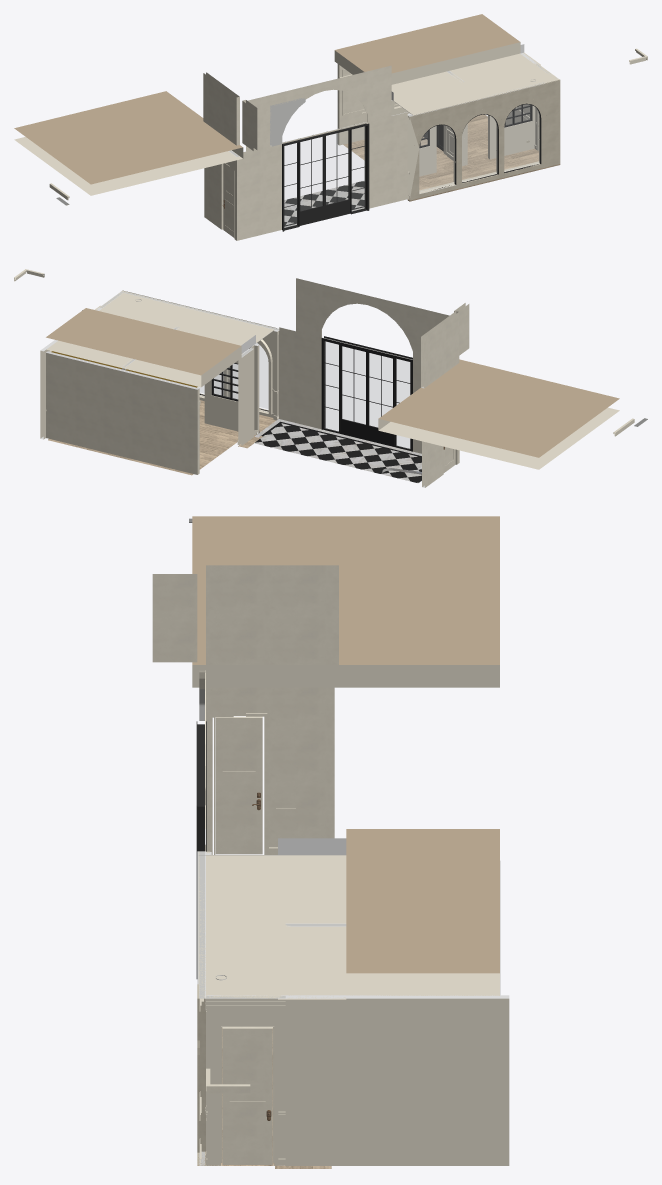
File: office-hall-90295a7a1003.glb
The picture shows the model from 3 angles, top to bottom: view 1: azimuth 30°, elevation 25°; view 2: azimuth 150°, elevation 25°; view 3: azimuth 270°, elevation 25°; orthographic projection. The views are drawn at different scales.
Parts seen in each view (by area): view 1: office-hall-look-2575515a05775d9e, office-hall-look-698abdfdc6fb970d, office-hall-look-d5a4a1b5d3594c04, office-hall-c9e78b9ec1bb39cd, office-hall-look-34525a54e63b733b, office-hall-dbd60ee5c3733ed6, office-hall-38561c12898e4d43, office-hall-c02a36d0521470a9, office-hall-5cbcc744e6f960f3, office-hall-look-746250f96522f643, office-hall-look-dbd60ee5c3733ed6, office-hall-c374268555806af8 (+11 smaller); view 2: office-hall-look-2575515a05775d9e, office-hall-look-19647d6da46c2b80, office-hall-look-698abdfdc6fb970d, office-hall-look-d5a4a1b5d3594c04, office-hall-look-c4ac463b6a960119, office-hall-look-34525a54e63b733b, office-hall-dbd60ee5c3733ed6, office-hall-look-746250f96522f643, office-hall-look-6a051330000fbca1, office-hall-a822d30aa9e2c55a, office-hall-look-3b0077416469e01b, office-hall-c9e78b9ec1bb39cd (+11 smaller); view 3: office-hall-look-2575515a05775d9e, office-hall-look-6a1144f4e43410bb, office-hall-look-746250f96522f643, office-hall-look-85f0fd939e0fcc78, office-hall-dbd60ee5c3733ed6, office-hall-look-dbd60ee5c3733ed6, office-hall-cf6d22c5317ced0b, office-hall-look-3322bc58bedf5620, office-hall-68d06b361ac47823, office-hall-look-5e296beffb47d853, office-hall-c9e78b9ec1bb39cd, office-hall-look-698abdfdc6fb970d.
Part boxes in pixels (x1,y1,x2,y2): office-hall-look-2575515a05775d9e: (14, 14, 520, 195); office-hall-look-698abdfdc6fb970d: (282, 123, 369, 231); office-hall-look-d5a4a1b5d3594c04: (236, 112, 407, 240); office-hall-c9e78b9ec1bb39cd: (407, 82, 545, 200); office-hall-look-34525a54e63b733b: (246, 65, 391, 151); office-hall-dbd60ee5c3733ed6: (392, 63, 559, 115); office-hall-38561c12898e4d43: (419, 125, 454, 191); office-hall-c02a36d0521470a9: (462, 115, 497, 180); office-hall-5cbcc744e6f960f3: (504, 104, 539, 170); office-hall-look-746250f96522f643: (203, 72, 239, 145); office-hall-look-dbd60ee5c3733ed6: (391, 44, 540, 100); office-hall-c374268555806af8: (407, 148, 560, 201); office-hall-look-2575515a05775d9e: (46, 308, 619, 469); office-hall-look-19647d6da46c2b80: (46, 351, 199, 474); office-hall-look-698abdfdc6fb970d: (321, 336, 412, 451); office-hall-look-d5a4a1b5d3594c04: (279, 327, 459, 462); office-hall-look-c4ac463b6a960119: (254, 423, 421, 483); office-hall-look-34525a54e63b733b: (296, 278, 449, 361); office-hall-dbd60ee5c3733ed6: (99, 290, 276, 346); office-hall-look-746250f96522f643: (421, 311, 459, 388); office-hall-look-6a051330000fbca1: (238, 347, 253, 445); office-hall-a822d30aa9e2c55a: (179, 327, 254, 431); office-hall-look-3b0077416469e01b: (48, 432, 237, 475); office-hall-c9e78b9ec1bb39cd: (136, 294, 279, 418); office-hall-look-2575515a05775d9e: (192, 516, 499, 995); office-hall-look-6a1144f4e43410bb: (285, 995, 509, 1165); office-hall-look-746250f96522f643: (206, 565, 338, 664); office-hall-look-85f0fd939e0fcc78: (206, 687, 334, 854); office-hall-dbd60ee5c3733ed6: (198, 855, 292, 998); office-hall-look-dbd60ee5c3733ed6: (278, 838, 346, 999); office-hall-cf6d22c5317ced0b: (222, 1028, 272, 1164); office-hall-look-3322bc58bedf5620: (215, 716, 262, 854); office-hall-68d06b361ac47823: (206, 995, 285, 1165); office-hall-look-5e296beffb47d853: (152, 574, 197, 662); office-hall-c9e78b9ec1bb39cd: (197, 851, 205, 1151); office-hall-look-698abdfdc6fb970d: (196, 721, 206, 978).
Bounding box in the file's own units: 21.96 × 5.17 × 5.78.
Materials: 32 (7 with a texture image).
